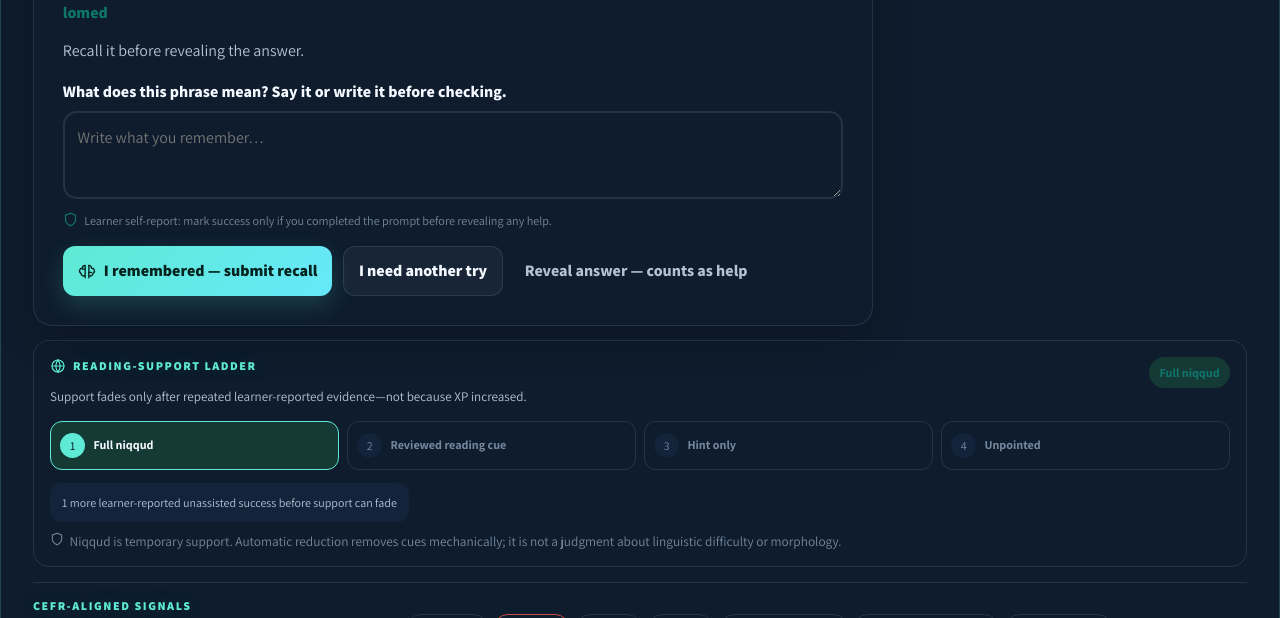
Test case: LearningCoreJourney › reloads the latest activity after a stale-token conflict
This screenshot has width=1280, height=618.
(page scrolled)
Click the button "I remembered — submit recall": click(198, 271) [63, 246, 332, 296]
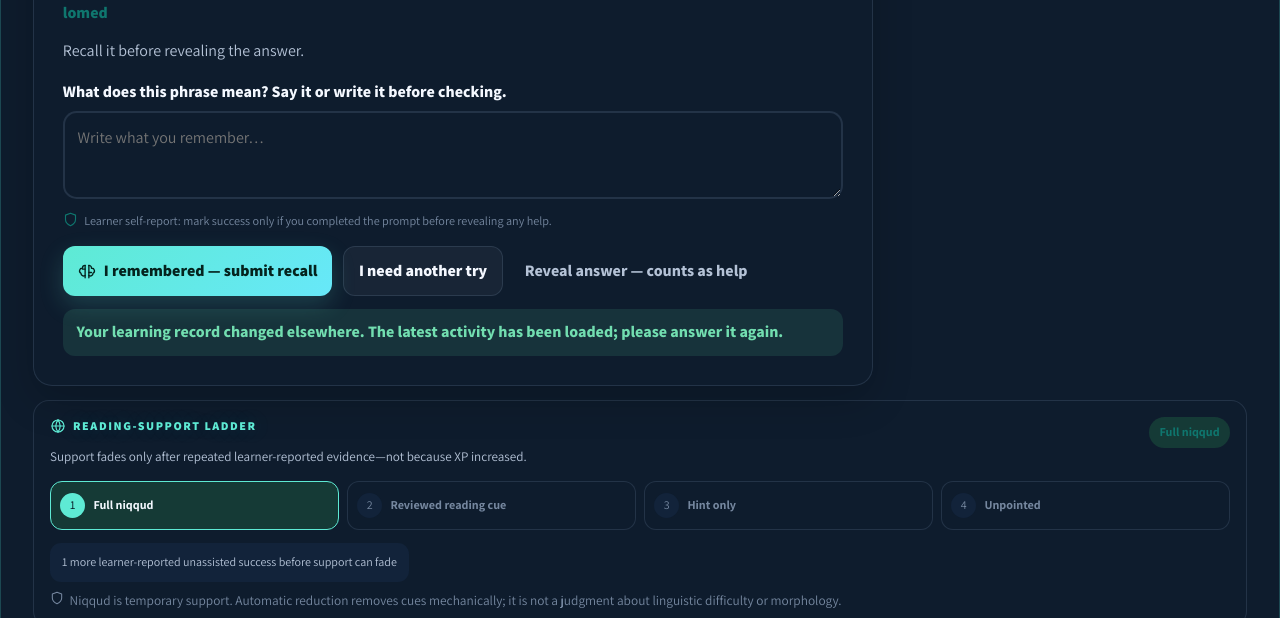
Expected: the text "learning record changed elsewhere" is shown, [76, 321, 783, 342]
